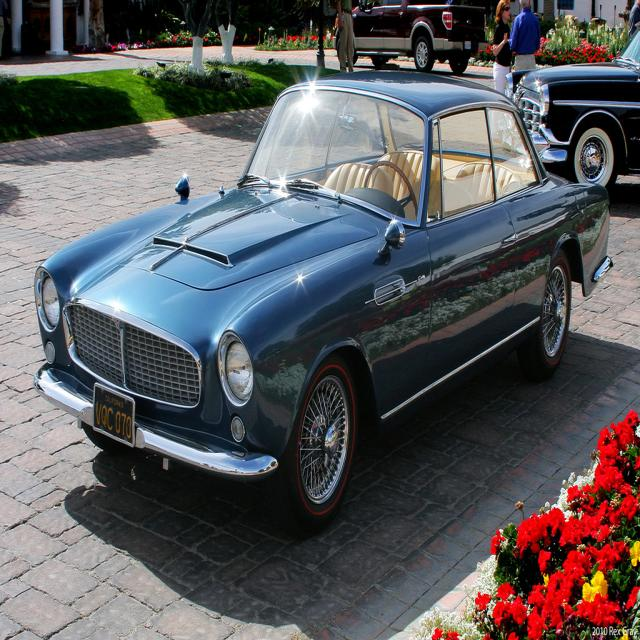car: (30, 68, 613, 532)
